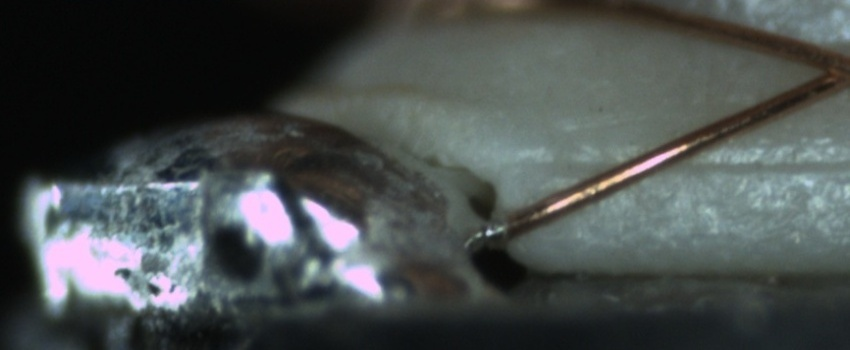CL: (798, 42, 850, 99)
DL: (530, 133, 849, 195)
TS: (471, 217, 506, 246)
